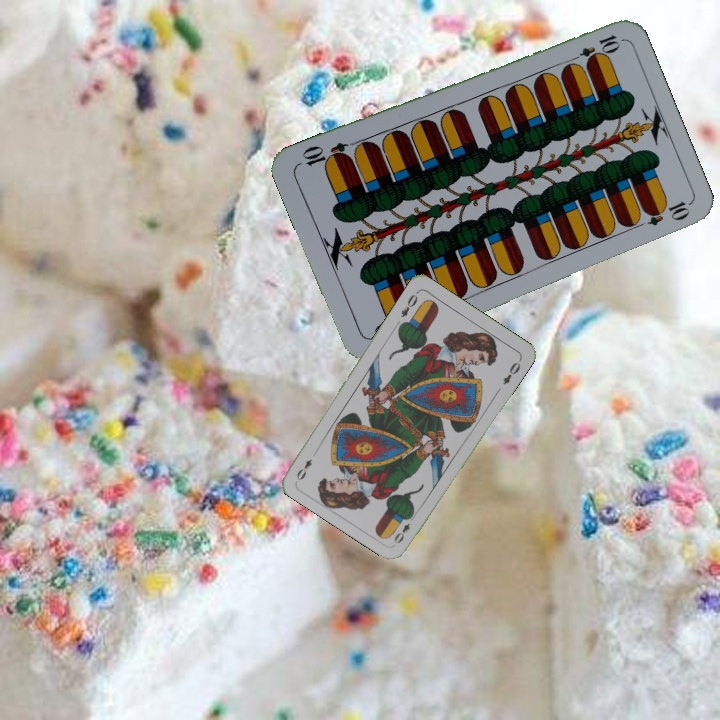E10: (565, 30, 622, 67)
EO: (390, 510, 418, 546), (397, 287, 421, 320)
